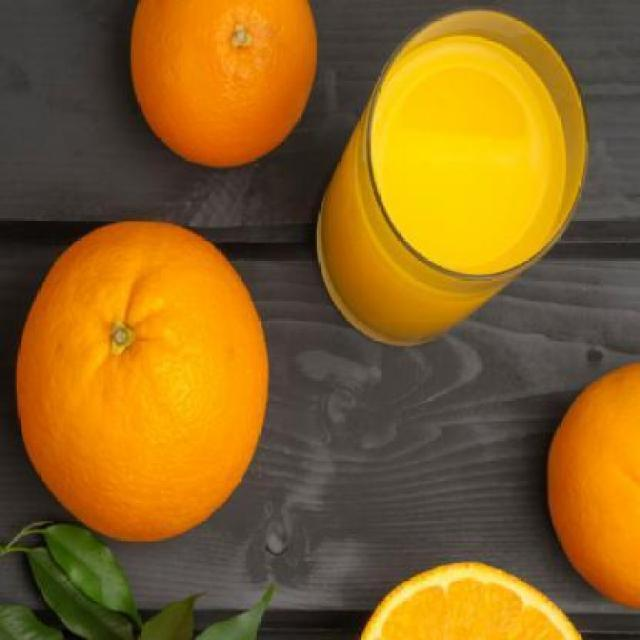Jeruk Sudah Matang: (17, 220, 271, 542), (126, 0, 319, 169), (544, 360, 640, 614)
